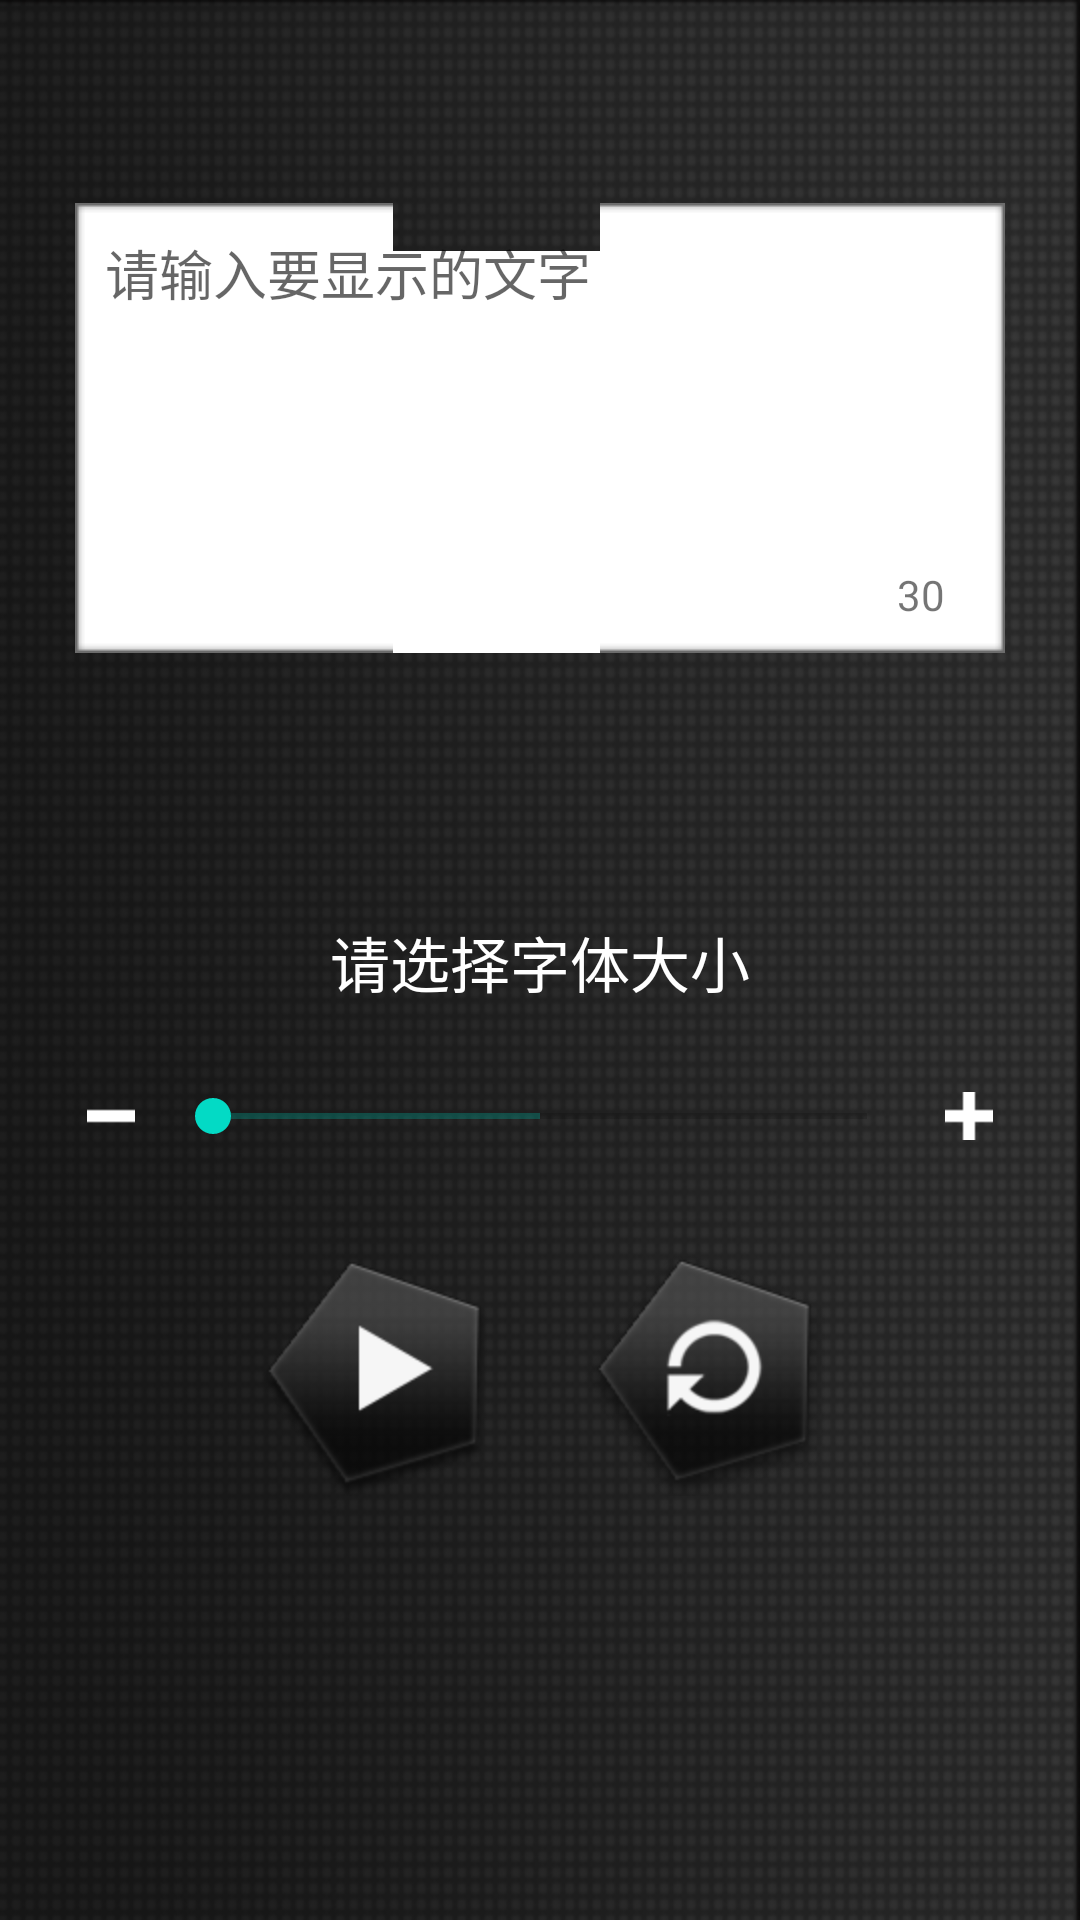

Named icons in this screenshot (1080w x 1920h) and their bounding boxes, (x1, y1, x2, y2):
led minus: (87, 1109, 135, 1123)
led play: (270, 1263, 479, 1411)
led plus: (945, 1092, 993, 1140)
led reset: (601, 1262, 809, 1413)
